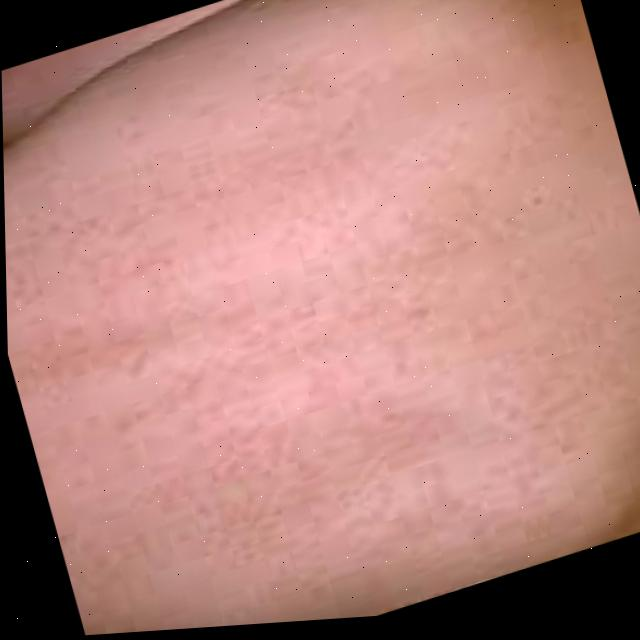Eczema: (14, 0, 640, 639)
